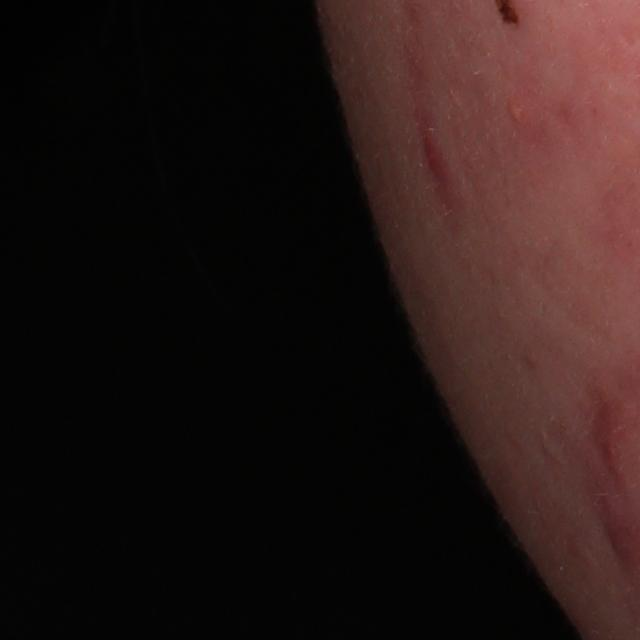papule: (497, 86, 543, 146), (417, 133, 453, 182)
